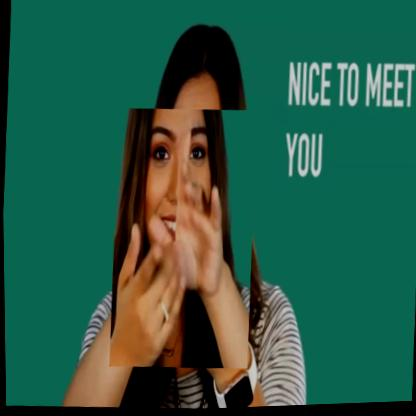NiceToMeetYou: (105, 105, 259, 374)
